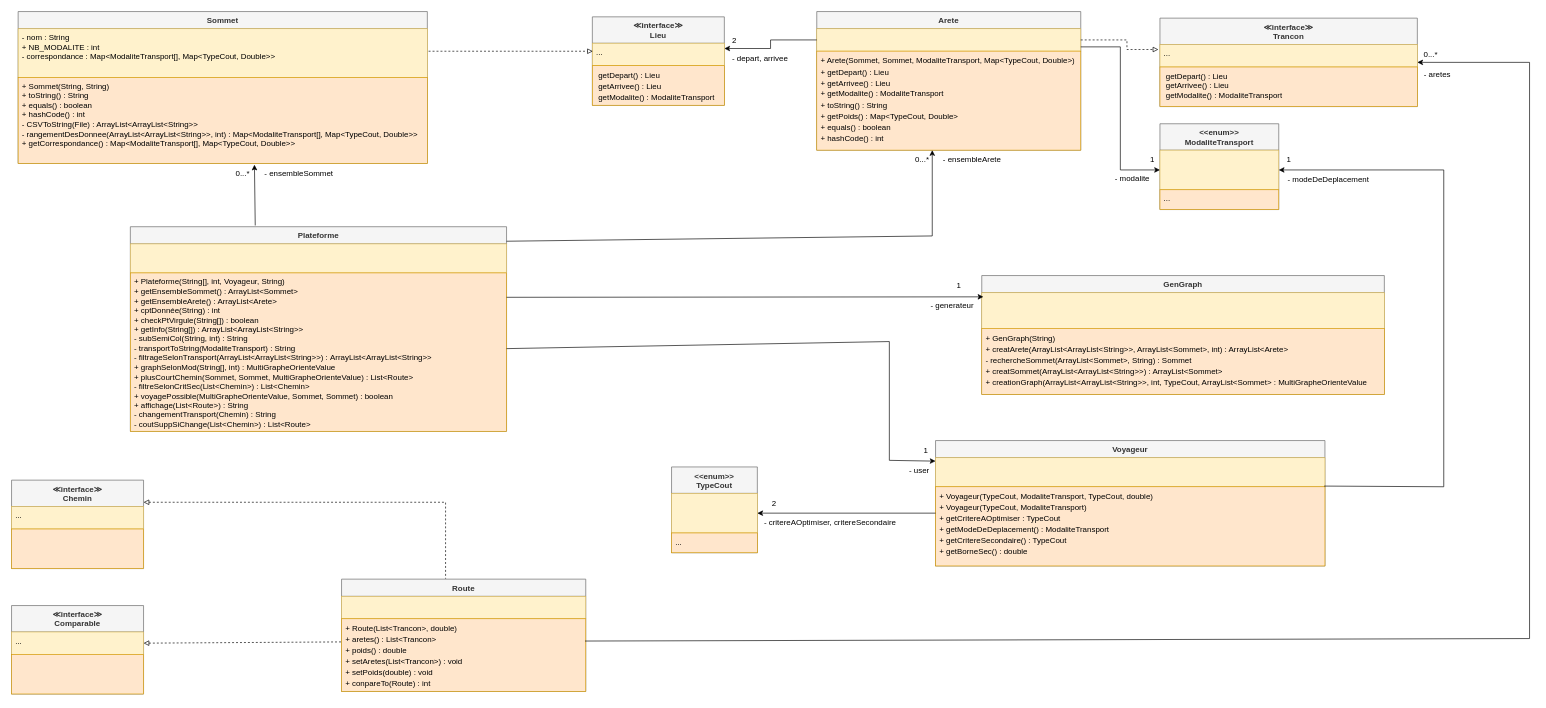
Image size: 1546x708. Some labels were removed from this diagram. Each missing label, with the centre of its shape:
- borneCritSec : double: the point at 1130,472
- csvFile : String: the point at 1182,310
- NB_VOYAGE_ELIGIBLE: int - NB_DONNEES: int: the point at 318,258
- poids : double: the point at 463,607
- poids: Map<TypeCout, Double>: the point at 948,39
aretes() : List<Trancon> poids() : double: the point at 77,548
compareTo() : int: the point at 77,674
PRIX CO2 TEMPS: the point at 714,513
TRAIN AVION BUS: the point at 1219,169
